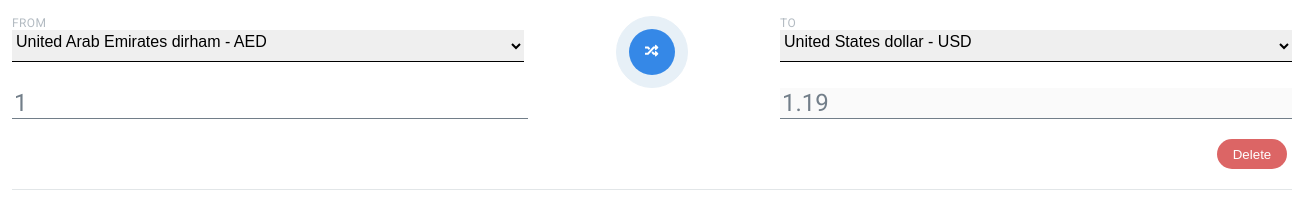
Currency Converter Component › Switch Currency Converter
Click the button with test id "switch".
click(652, 52)  # box [616,16,688,88]
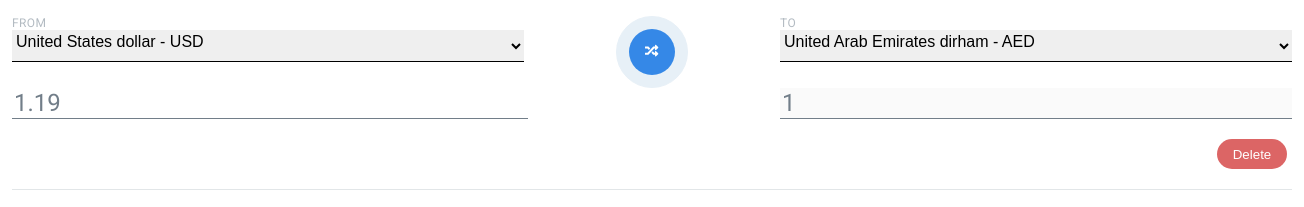
Now the number field with test id "sourceAmount" holds "1.19", box [12,88,528,119]
